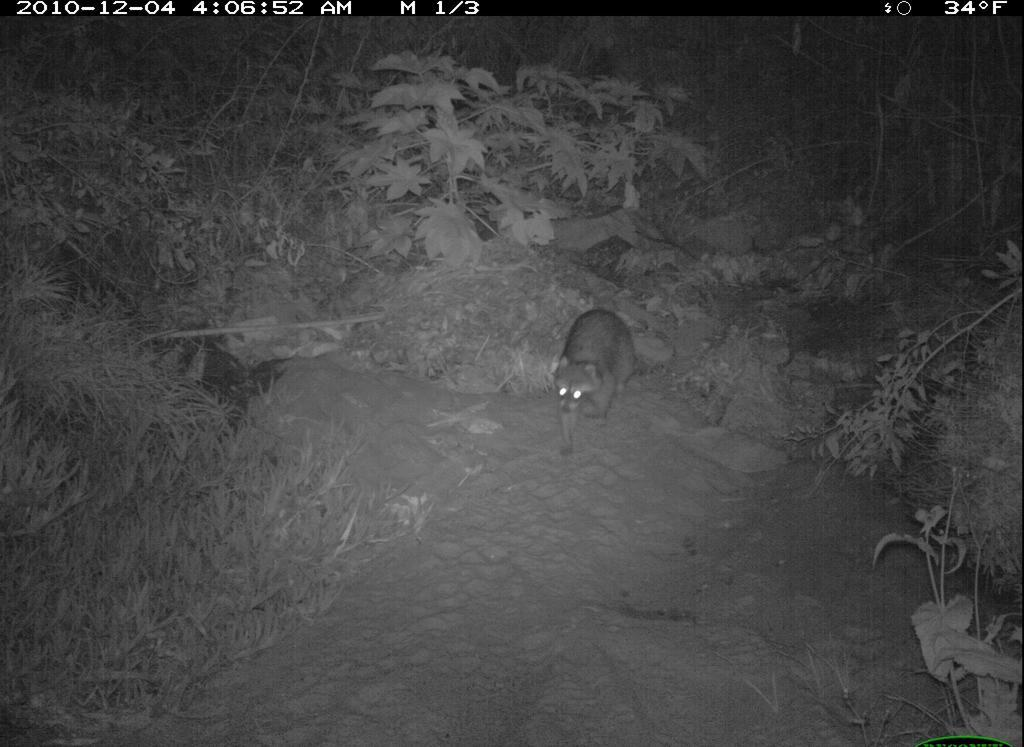raccoon: (541, 295, 653, 466)
